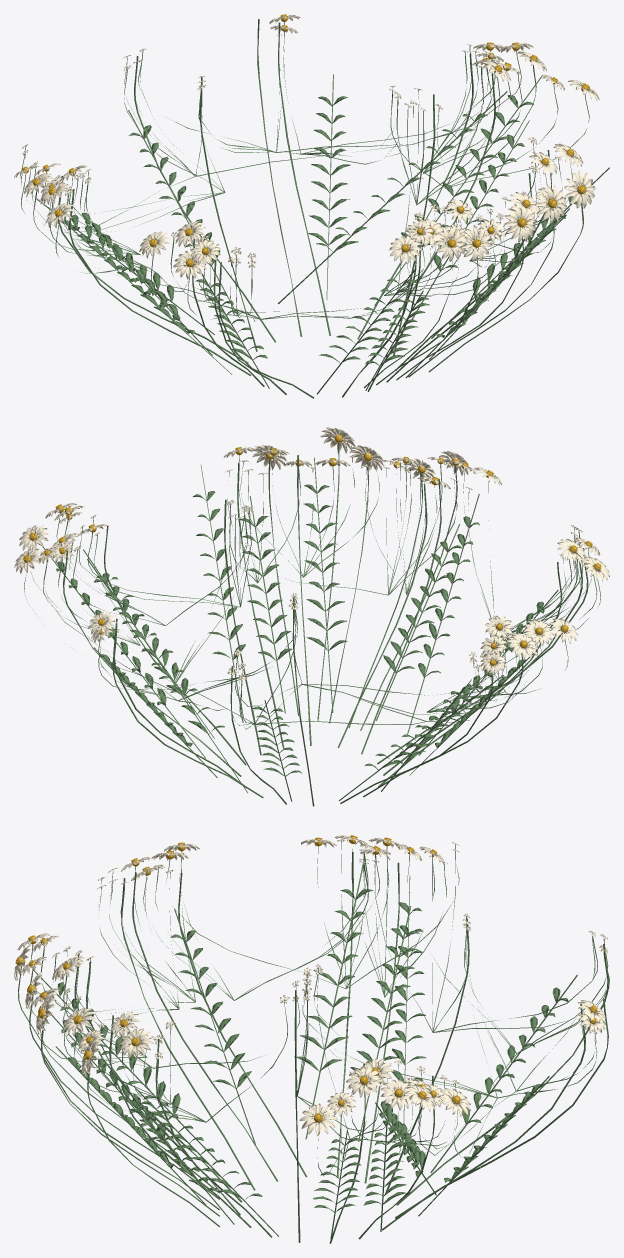
Rendered from fillers.glb.
The picture shows the model from 3 angles, top to bottom: view 1: azimuth 30°, elevation 25°; view 2: azimuth 150°, elevation 25°; view 3: azimuth 270°, elevation 25°; orthographic projection. The views are drawn at different scales.
Parts seen in each view (by area): view 1: Filler_Spray_0, Filler_petals, Filler_pollen; view 2: Filler_Spray_0, Filler_petals, Filler_pollen; view 3: Filler_Spray_0, Filler_petals, Filler_pollen.
Part boxes in pixels (<box>): Filler_Spray_0: <box>20,19,609,398</box>; Filler_petals: <box>14,15,599,279</box>; Filler_pollen: <box>22,14,589,267</box>; Filler_Spray_0: <box>24,443,600,806</box>; Filler_petals: <box>14,427,609,682</box>; Filler_pollen: <box>23,434,601,665</box>; Filler_Spray_0: <box>18,841,609,1243</box>; Filler_petals: <box>14,835,607,1136</box>; Filler_pollen: <box>15,835,597,1122</box>.
Bounding box in the file's own units: 2.05 × 0.9452 × 1.81.
